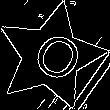O_SW: (18, 24, 83, 89)
